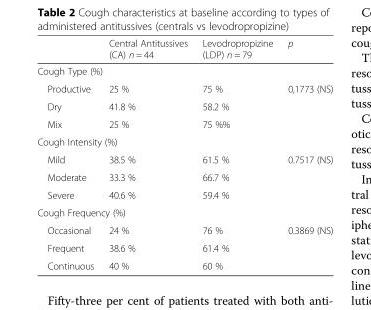table: (36, 37, 332, 271)
table column: (100, 37, 194, 271), (194, 37, 279, 271), (36, 37, 100, 271), (279, 37, 332, 271)
table column header: (36, 37, 332, 62)
table projected row header: (36, 132, 332, 150), (36, 203, 332, 221), (36, 62, 332, 79)
table row: (36, 37, 332, 62), (36, 79, 332, 97), (36, 114, 332, 132), (36, 132, 332, 150), (36, 150, 332, 168), (36, 185, 332, 203), (36, 203, 332, 221), (36, 238, 332, 256), (36, 62, 332, 79), (36, 97, 332, 114), (36, 168, 332, 185), (36, 221, 332, 238), (36, 256, 332, 271)
table spanning cell: (279, 79, 332, 132), (279, 150, 332, 203), (279, 221, 332, 271)
